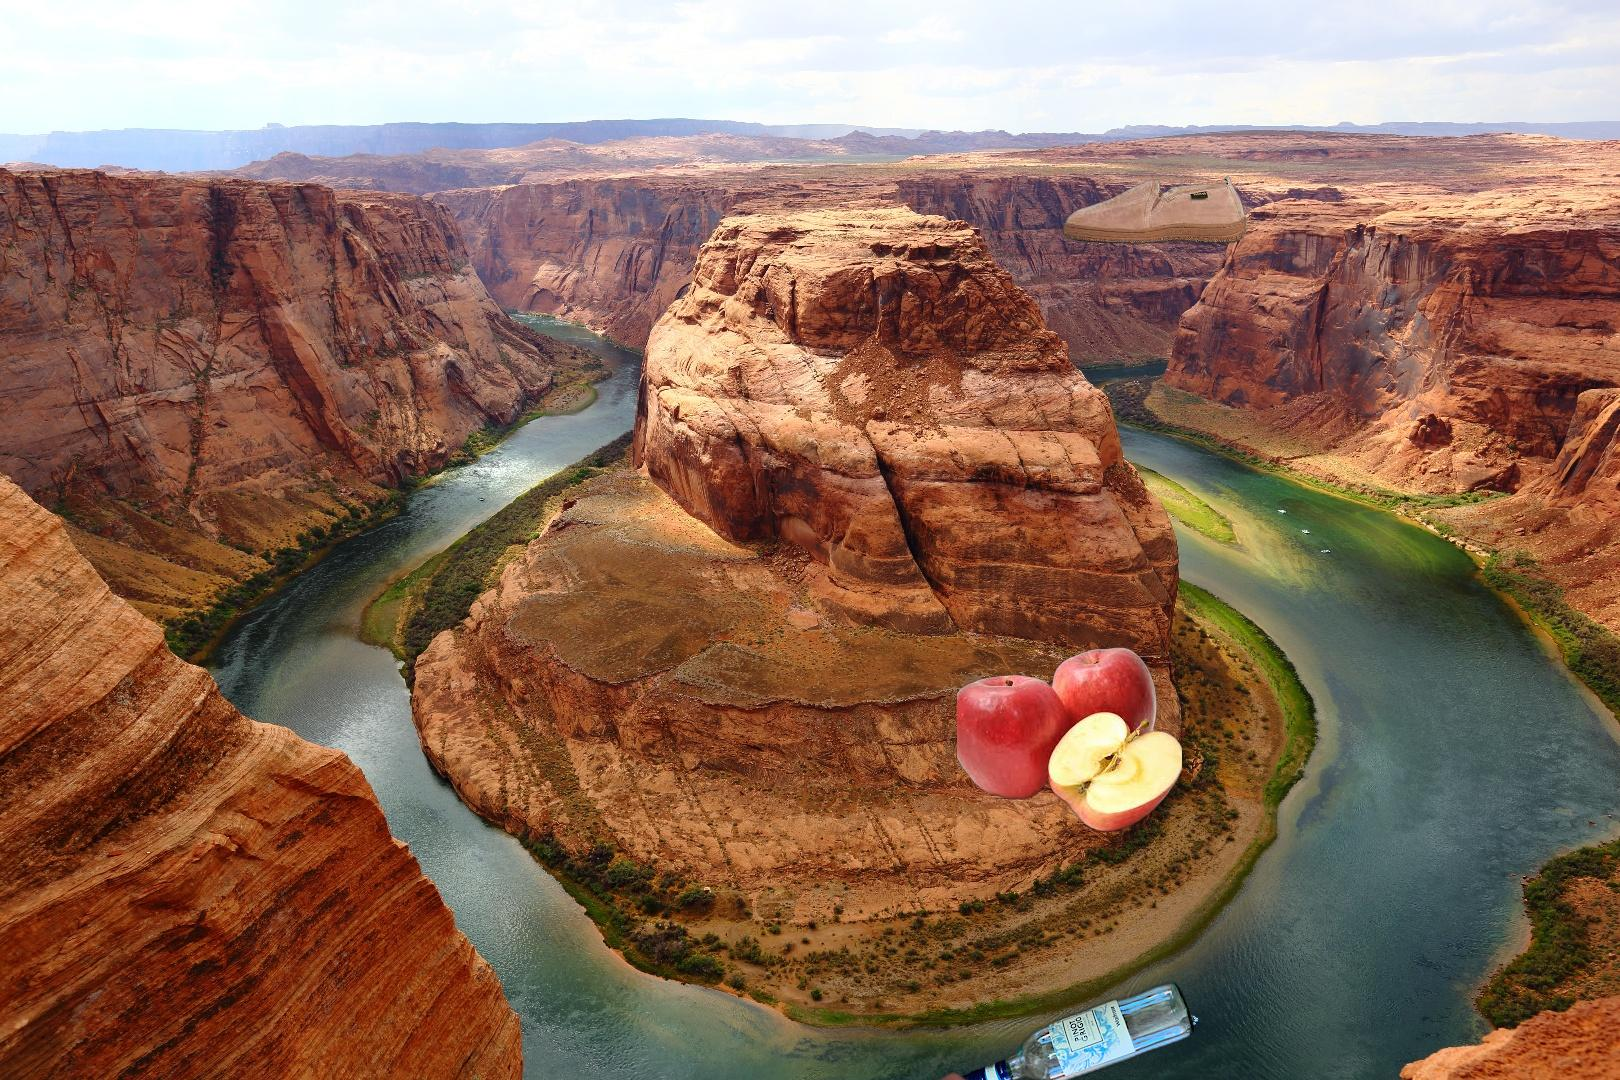biological: (957, 644, 1182, 835)
glass: (809, 976, 1201, 1080)
shoes: (1060, 175, 1250, 247)
trashbox-cardboard: (680, 1063, 1399, 1080)
